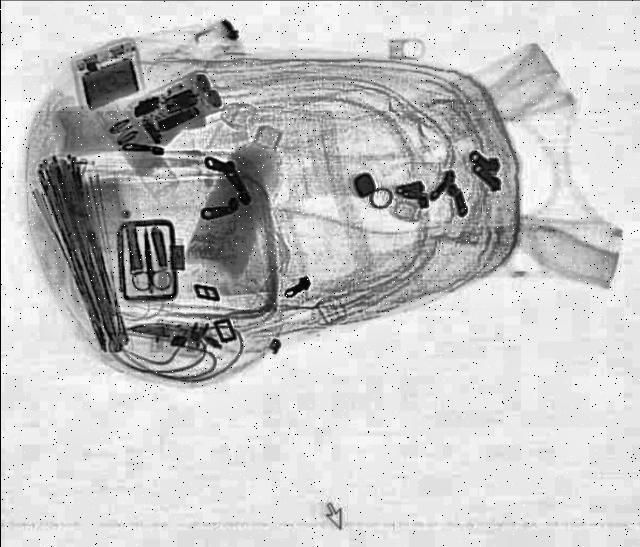Scissors: (126, 224, 176, 294)
